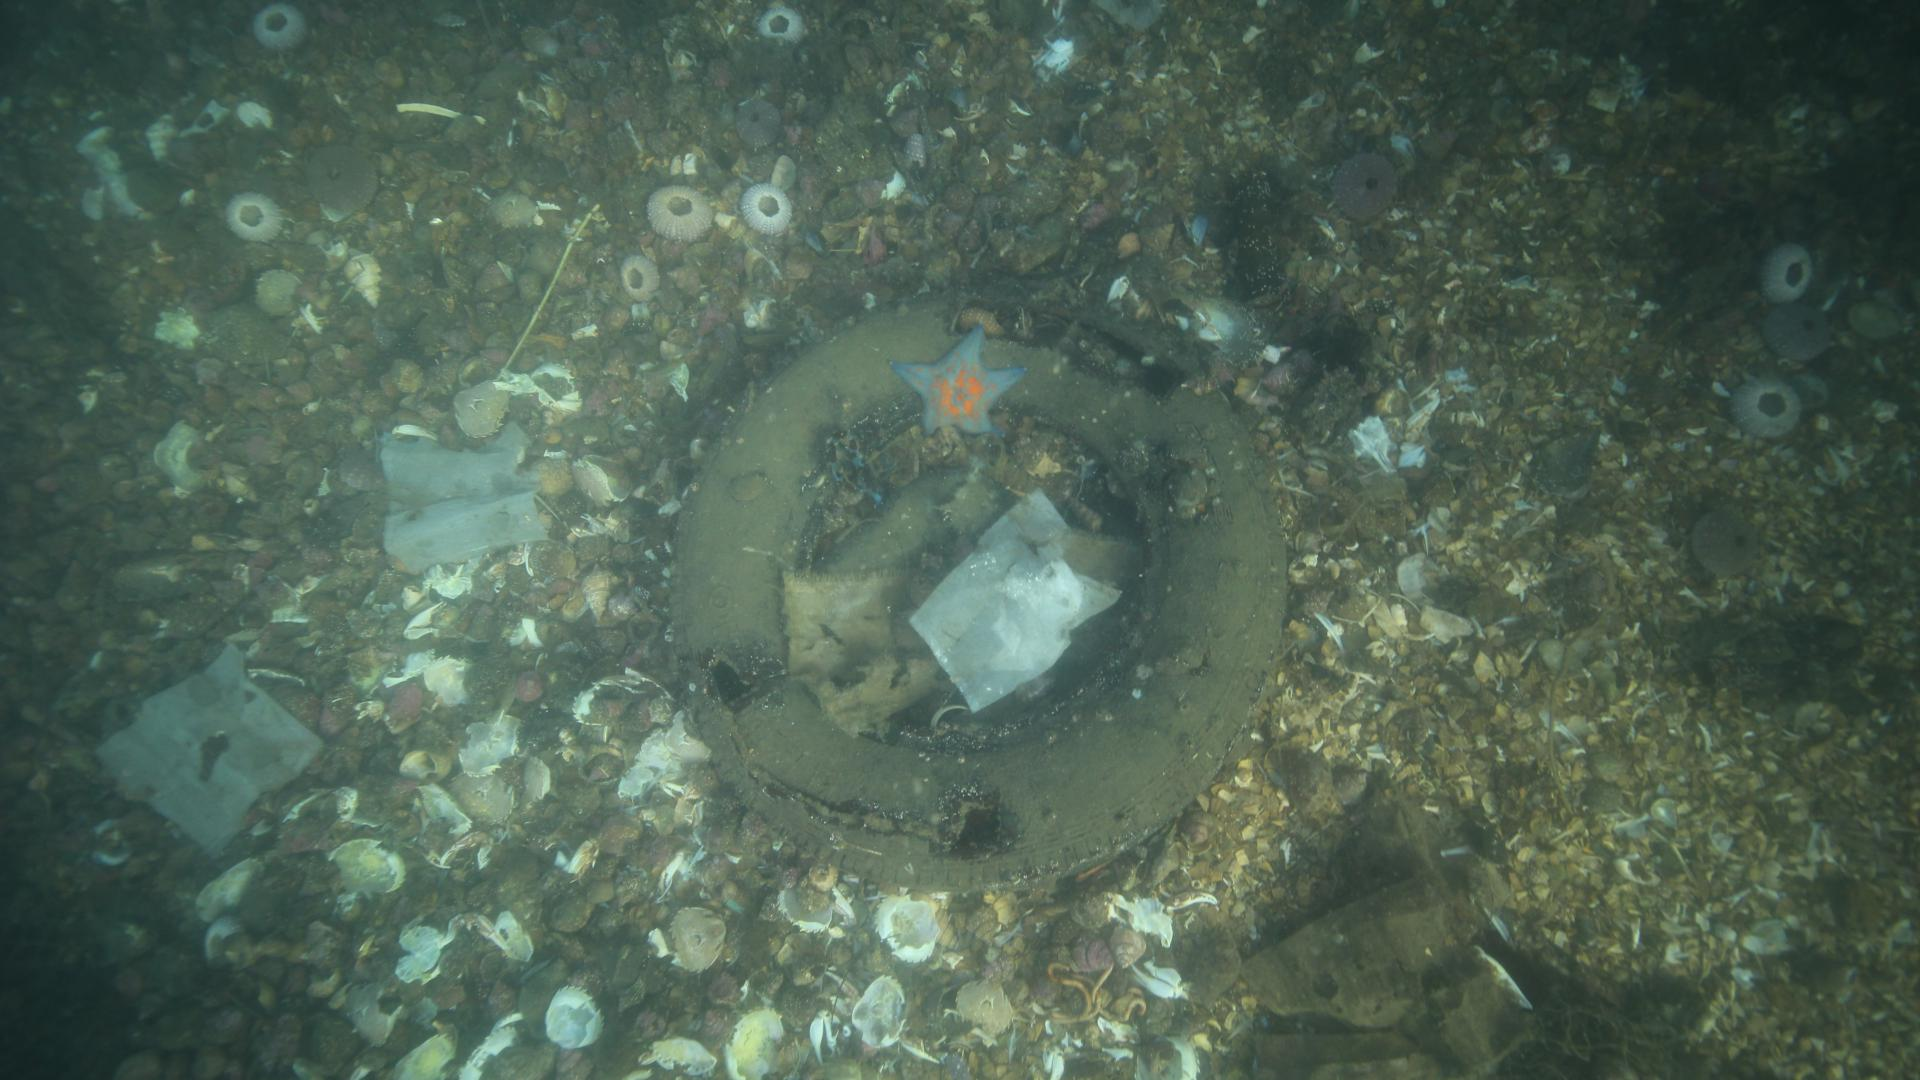tire: (666, 285, 1286, 891)
